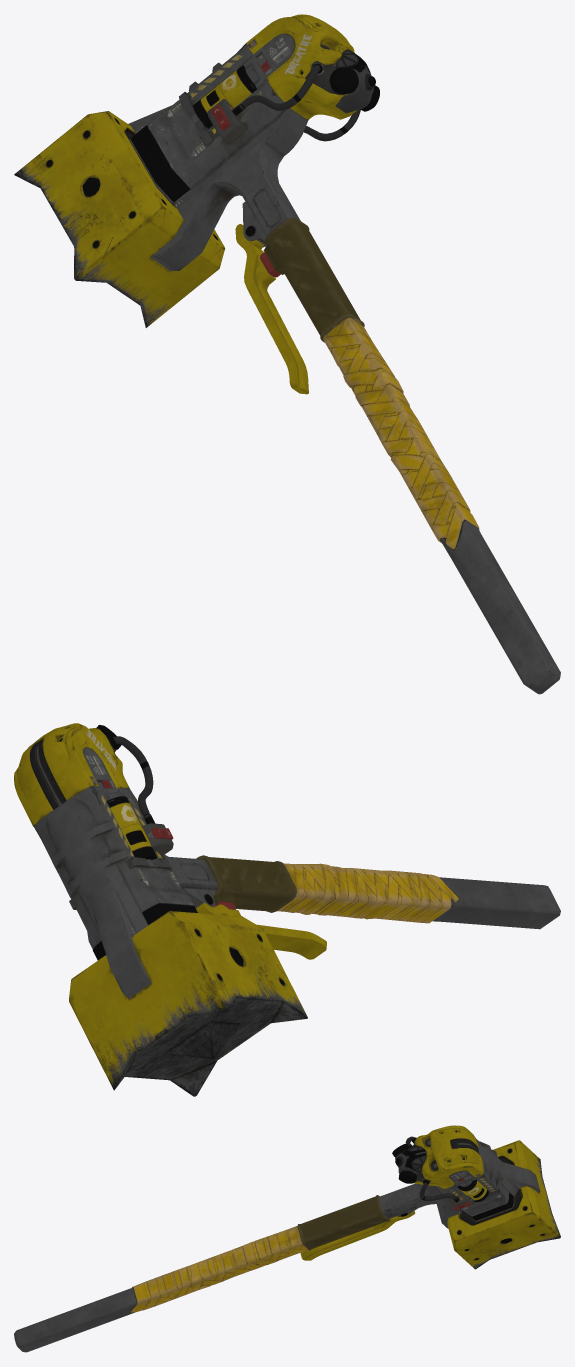
3 views of the same model, one above another, from view 1: azimuth 30°, elevation 25°; view 2: azimuth 150°, elevation 25°; view 3: azimuth 270°, elevation 25° (orthographic). The views are drawn at different scales.
Parts seen in each view (by area): view 1: body_0_caustic_heirloom_caustic_heirloom_0; view 2: body_0_caustic_heirloom_caustic_heirloom_0; view 3: body_0_caustic_heirloom_caustic_heirloom_0.
Boxes of the visible parts, x1,y1,x2,y2 form: body_0_caustic_heirloom_caustic_heirloom_0: (14, 14, 560, 694); body_0_caustic_heirloom_caustic_heirloom_0: (14, 723, 560, 1096); body_0_caustic_heirloom_caustic_heirloom_0: (14, 1125, 560, 1352).
Size of the model in its own units: 10.89 by 15.6 by 30.26.
Materials: 1 (1 with a texture image).
